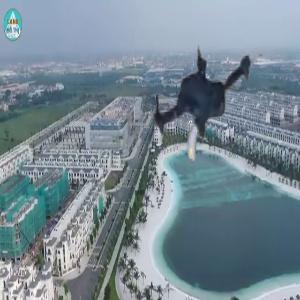drone: (124, 31, 278, 185)
